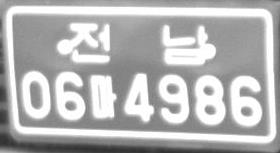0: (21, 70, 51, 119)
4: (125, 72, 154, 122)
6: (230, 74, 263, 128), (55, 70, 86, 120)
8: (193, 73, 226, 126)
9: (157, 72, 190, 125)
마: (88, 74, 117, 119)
전남_D: (69, 21, 207, 65)
